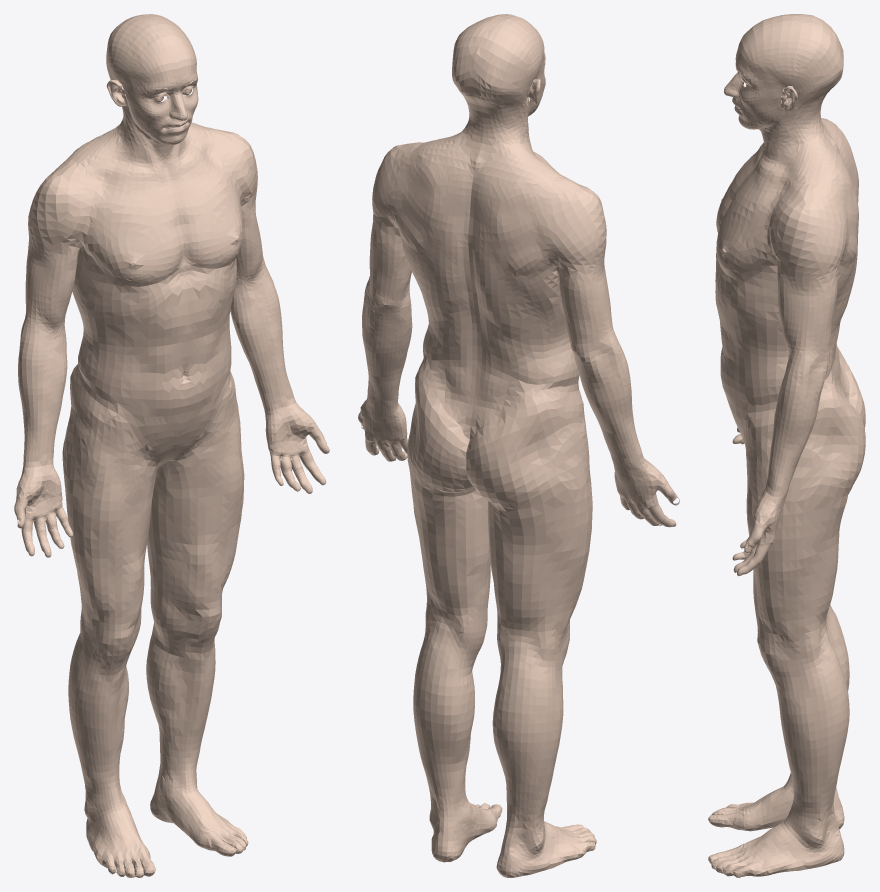
The model's file is peau.glb.
3 renders of one model, left to right at view 1: azimuth 30°, elevation 25°; view 2: azimuth 150°, elevation 25°; view 3: azimuth 270°, elevation 25°, orthographic.
Visible parts, largest first — view 1: Arteries of heart.j; view 2: Arteries of heart.j; view 3: Arteries of heart.j.
Boxes of the visible parts, <box> form: Arteries of heart.j: <box>14,14,329,877</box>; Arteries of heart.j: <box>358,14,679,877</box>; Arteries of heart.j: <box>708,14,865,877</box>.
Size of the model in its own units: 0.6801 by 1.71 by 0.294.
